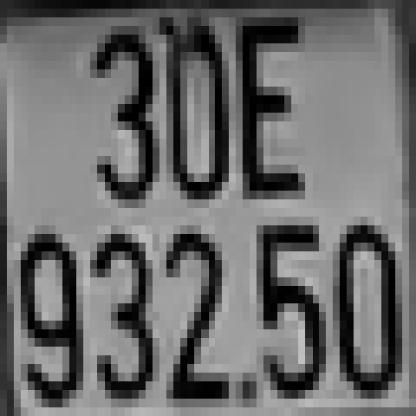0: (326, 217, 402, 390), (166, 26, 222, 208)
2: (166, 225, 222, 390)
3: (90, 35, 160, 208), (90, 225, 160, 390)
5: (250, 217, 319, 390)
9: (21, 226, 83, 408)
E: (236, 18, 298, 200)
